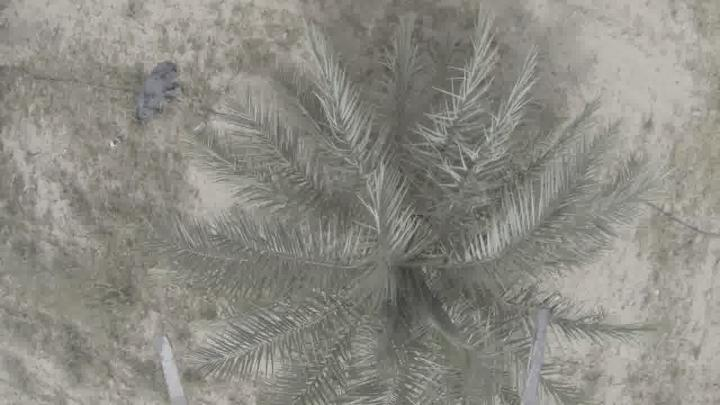Date-Palm-Crown: (284, 103, 556, 405)
